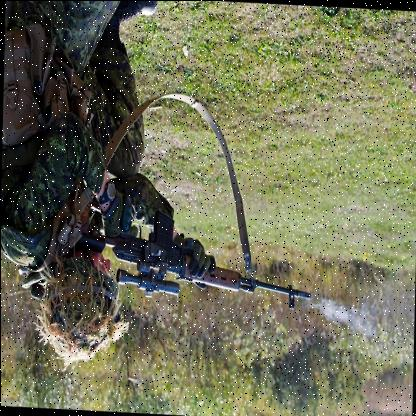rifle: (70, 196, 314, 308)
